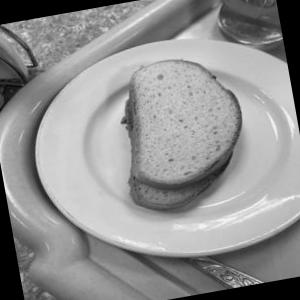bread: (93, 25, 267, 246)
